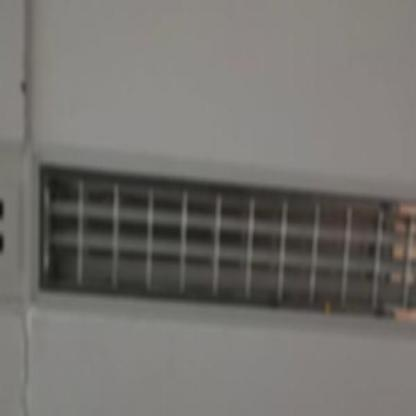light_off: (21, 122, 415, 343)
